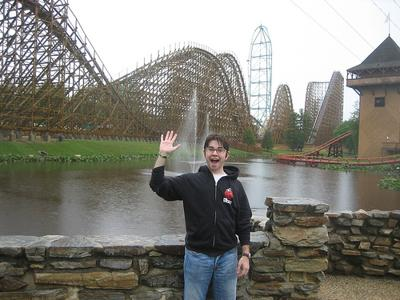person: (147, 130, 253, 300)
